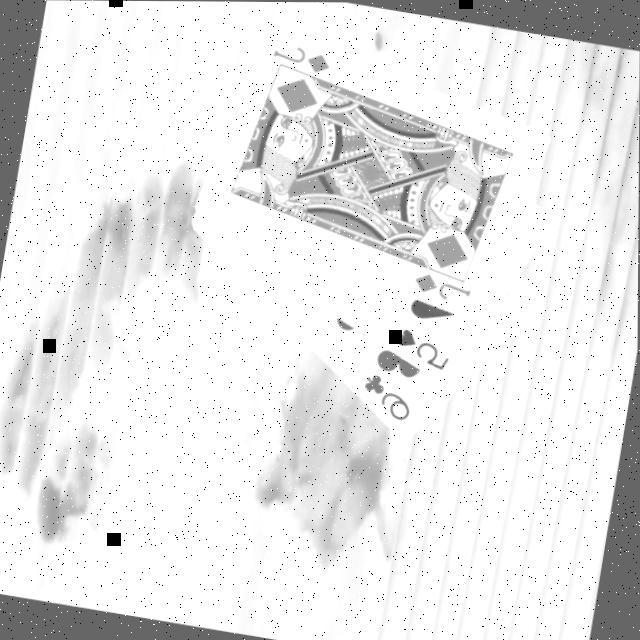5S: (388, 326, 456, 376)
9C: (354, 370, 418, 427)
JD: (408, 268, 476, 308), (266, 41, 334, 81)
